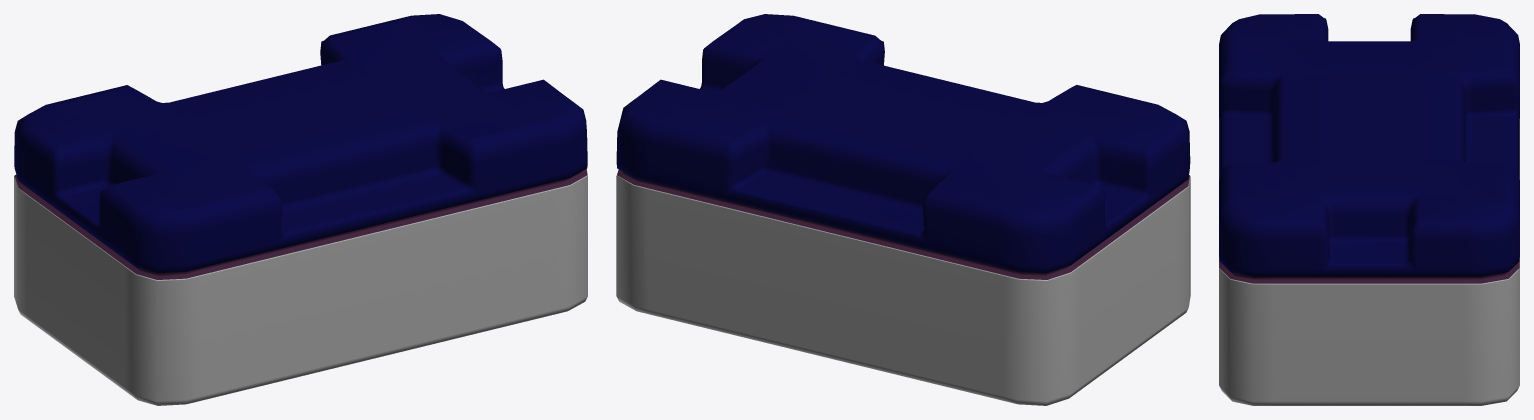
Rendered from FinishedSmallCrateLowPoly.fbx.
The picture shows the model from 3 angles, left to right: view 1: azimuth 30°, elevation 25°; view 2: azimuth 150°, elevation 25°; view 3: azimuth 270°, elevation 25°; orthographic projection. The views are drawn at different scales.
Parts seen in each view (by area): view 1: FinishedSmallCrateLowPoly; view 2: FinishedSmallCrateLowPoly; view 3: FinishedSmallCrateLowPoly.
Boxes of the visible parts, bbox=[...] form: FinishedSmallCrateLowPoly: bbox=[14, 14, 587, 405]; FinishedSmallCrateLowPoly: bbox=[616, 14, 1190, 405]; FinishedSmallCrateLowPoly: bbox=[1219, 14, 1519, 405].
Bounding box in the file's own units: 88.32 × 52.57 × 35.83.
